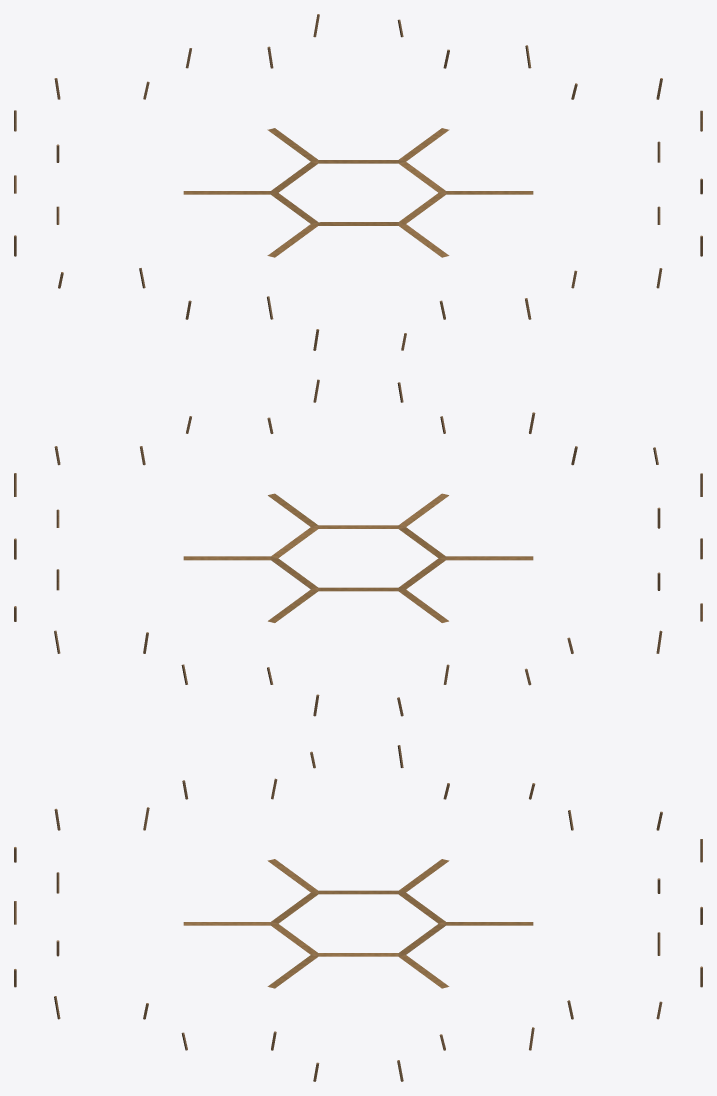
File: ground-1.glb
The picture shows the model from 3 angles, top to bottom: view 1: azimuth 30°, elevation 25°; view 2: azimuth 150°, elevation 25°; view 3: azimuth 270°, elevation 25°; orthographic projection.
Parts seen in each view (by area): view 1: ground-1; view 2: ground-1; view 3: ground-1.
Part boxes in pixels (left/top/right/bottom): ground-1: left=14, top=14, right=702, bottom=350; ground-1: left=14, top=379, right=702, bottom=716; ground-1: left=14, top=745, right=702, bottom=1081.
Bounding box in the file's own units: 10.15 × 0.3275 × 9.34.
1 material, 1 textured.
